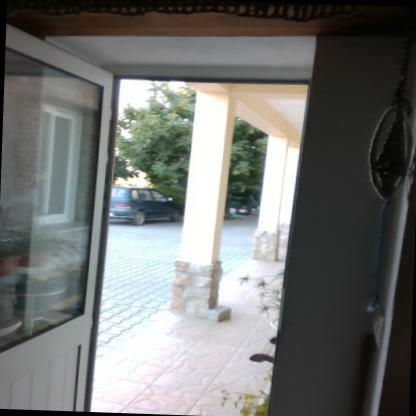open: (0, 5, 325, 415)
